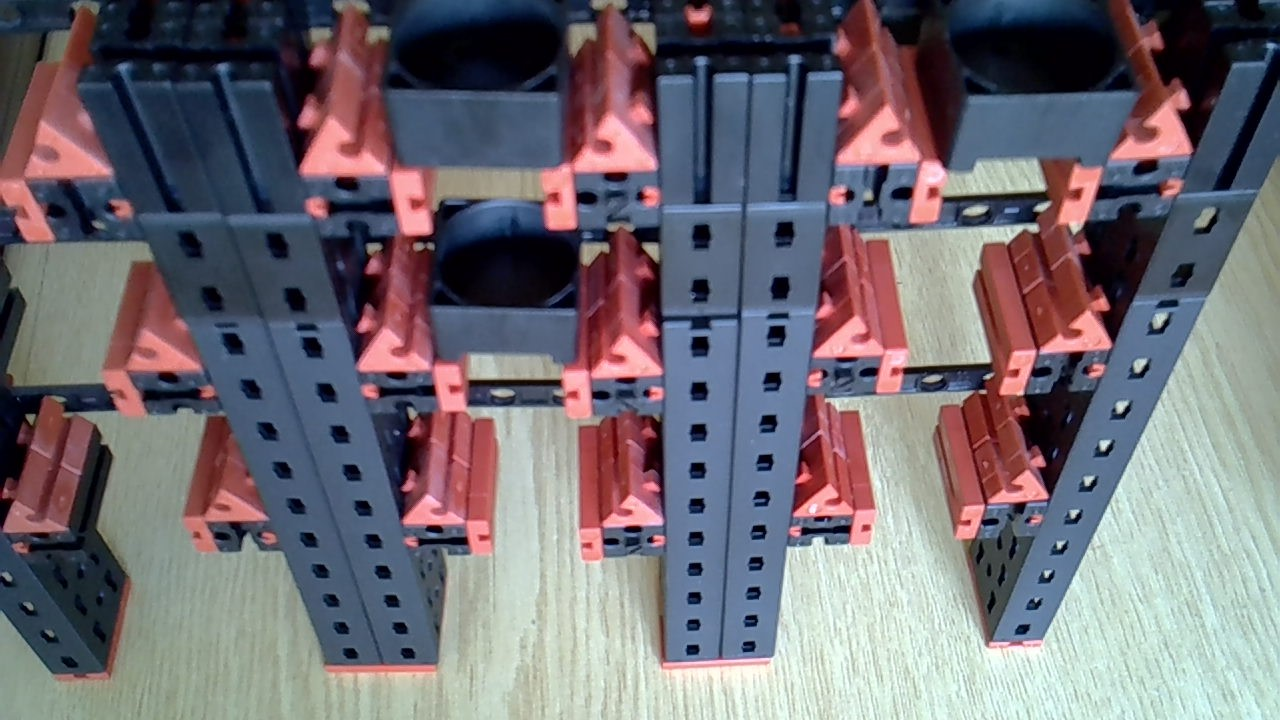Behaelter: (919, 4, 1135, 170), (386, 1, 566, 169), (431, 196, 578, 364)
